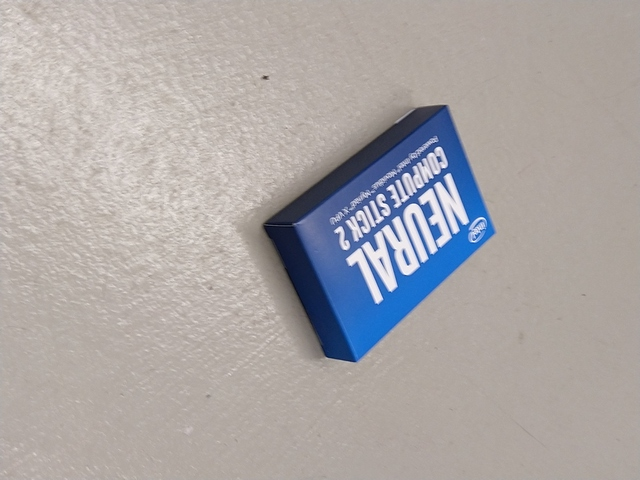box: (260, 103, 497, 364)
